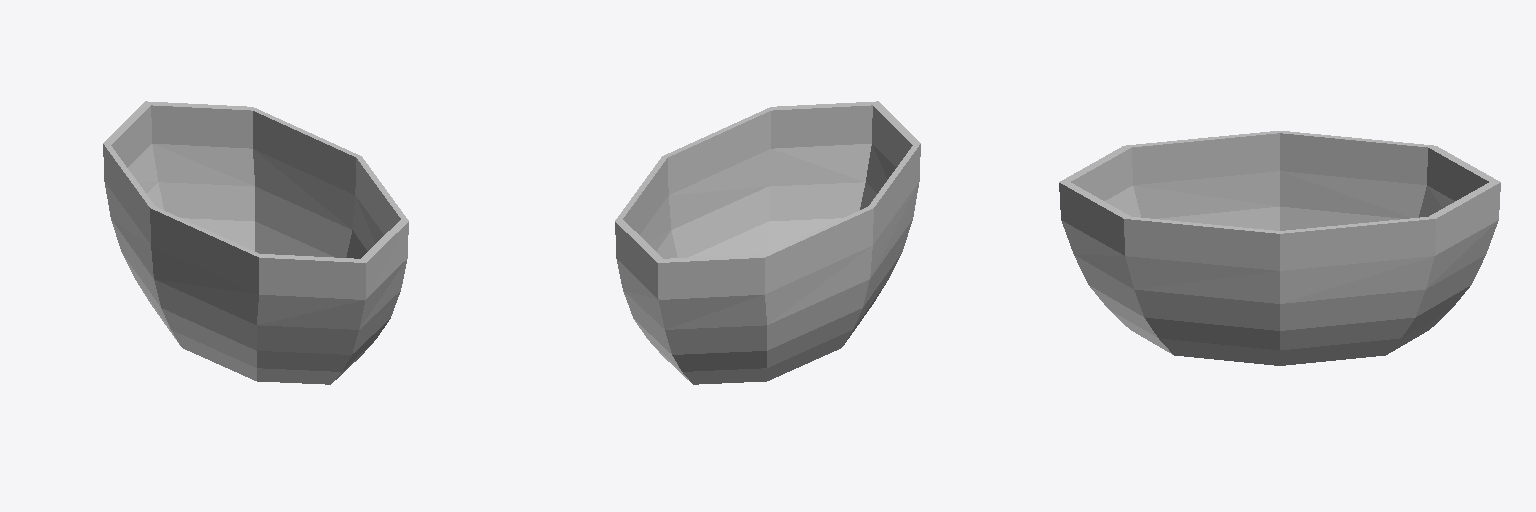
File: 872929-vasca.obj
3 views of the same model, side by side, from view 1: azimuth 30°, elevation 25°; view 2: azimuth 150°, elevation 25°; view 3: azimuth 270°, elevation 25° (orthographic).
Visible parts, largest first — view 1: Cylinder008; view 2: Cylinder008; view 3: Cylinder008.
Boxes of the visible parts, x1=… form: Cylinder008: x1=103, y1=101, x2=408, y2=384; Cylinder008: x1=615, y1=101, x2=920, y2=384; Cylinder008: x1=1059, y1=131, x2=1500, y2=365.
Bounding box in the file's own units: 57.18 × 38.11 × 103.